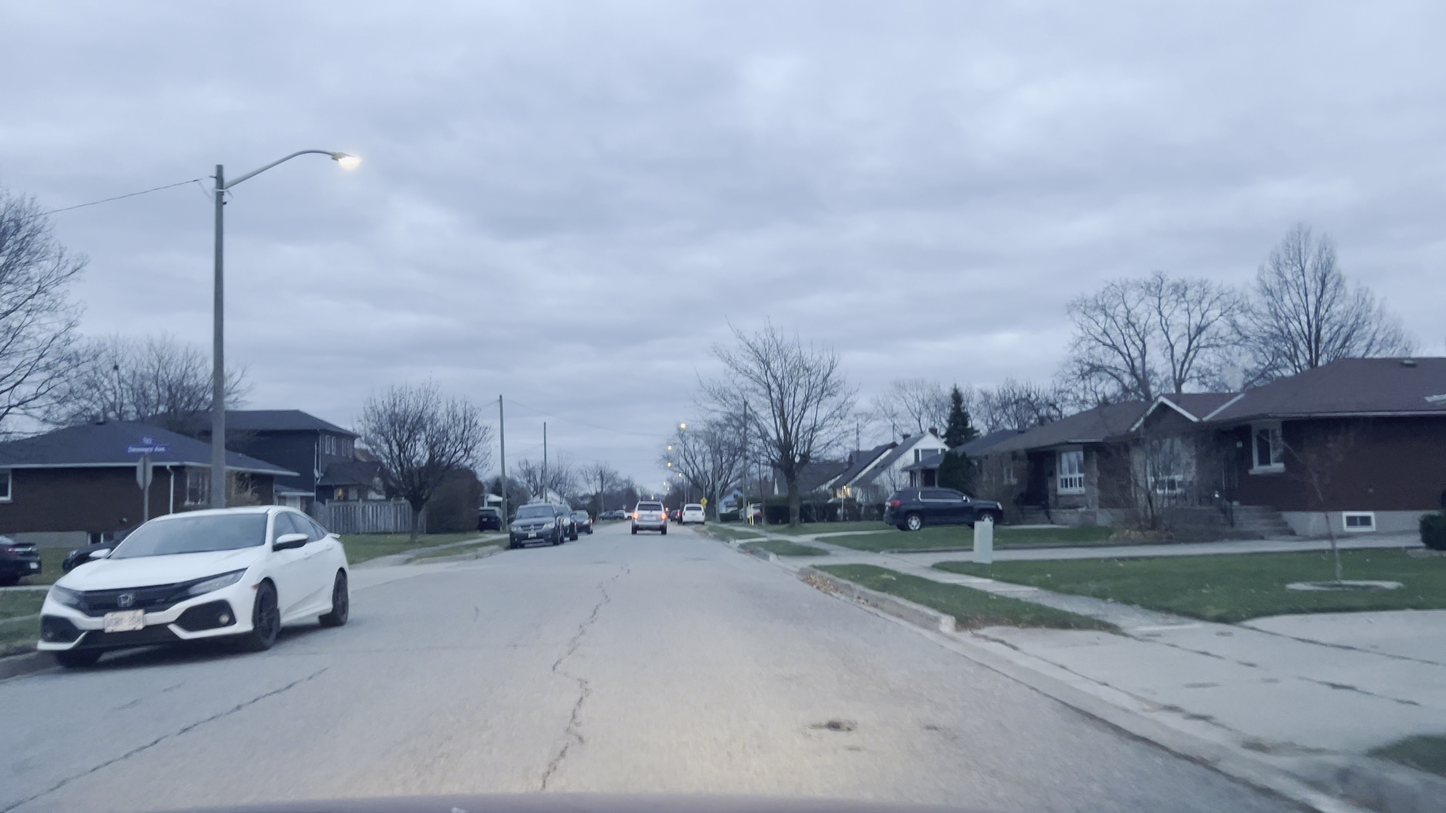cracks: (555, 675, 586, 789), (129, 713, 203, 757), (558, 594, 601, 663), (31, 758, 104, 796), (249, 674, 296, 706)
